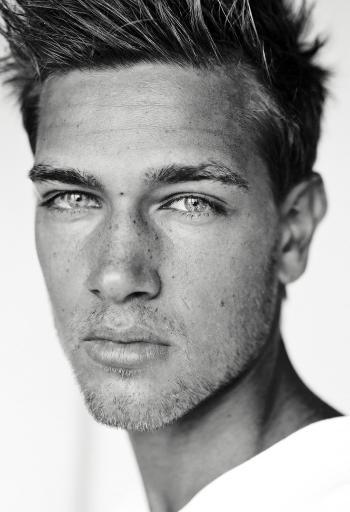left_eye: (155, 191, 232, 226)
left_lip_corner: (158, 334, 177, 359)
right_eye: (33, 187, 106, 220)
right_lip_corner: (80, 331, 96, 355)
